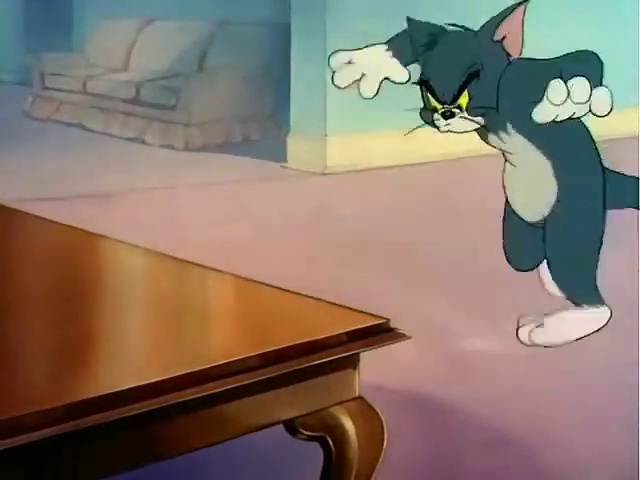tom: (317, 3, 634, 346)
